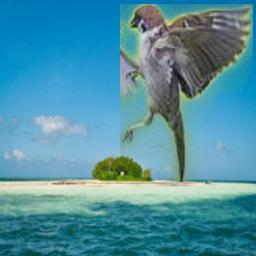Sparrow: (120, 4, 253, 182)
